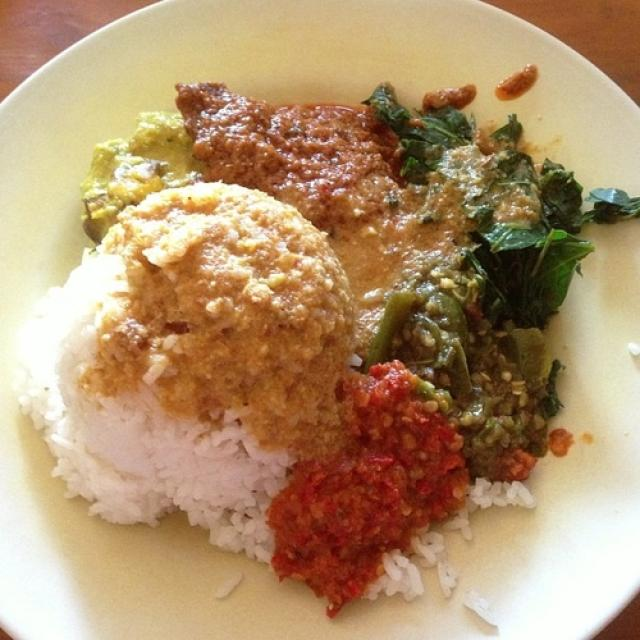米饭主食: (15, 8, 616, 626)
